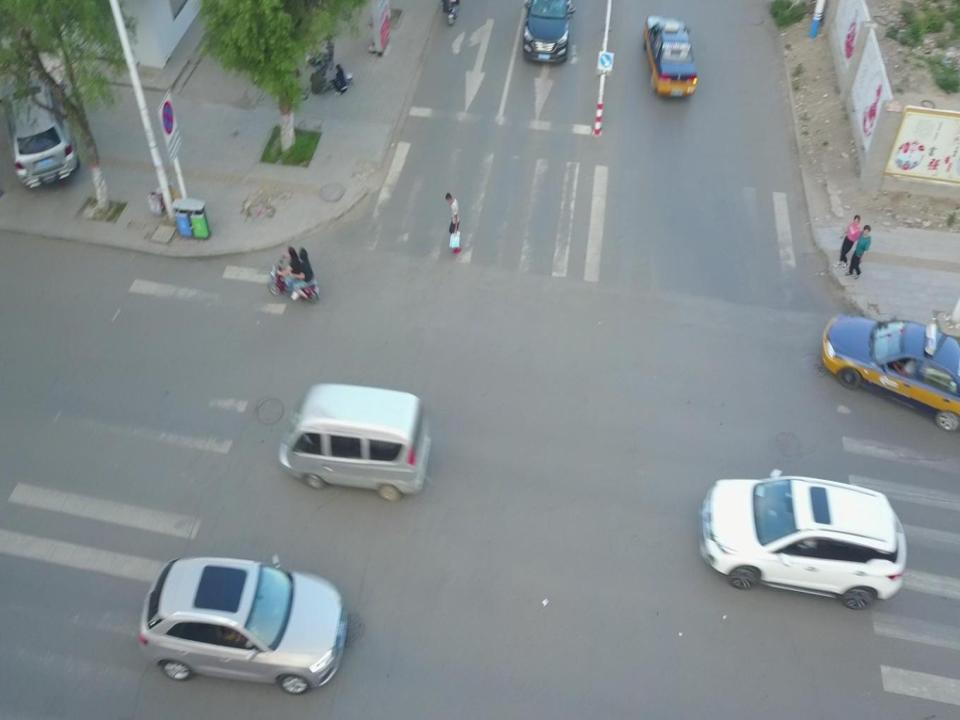car: (695, 466, 910, 610), (134, 550, 348, 694), (818, 310, 959, 435), (1, 70, 80, 191), (642, 12, 700, 98), (520, 0, 576, 64)
van: (279, 378, 433, 502)
